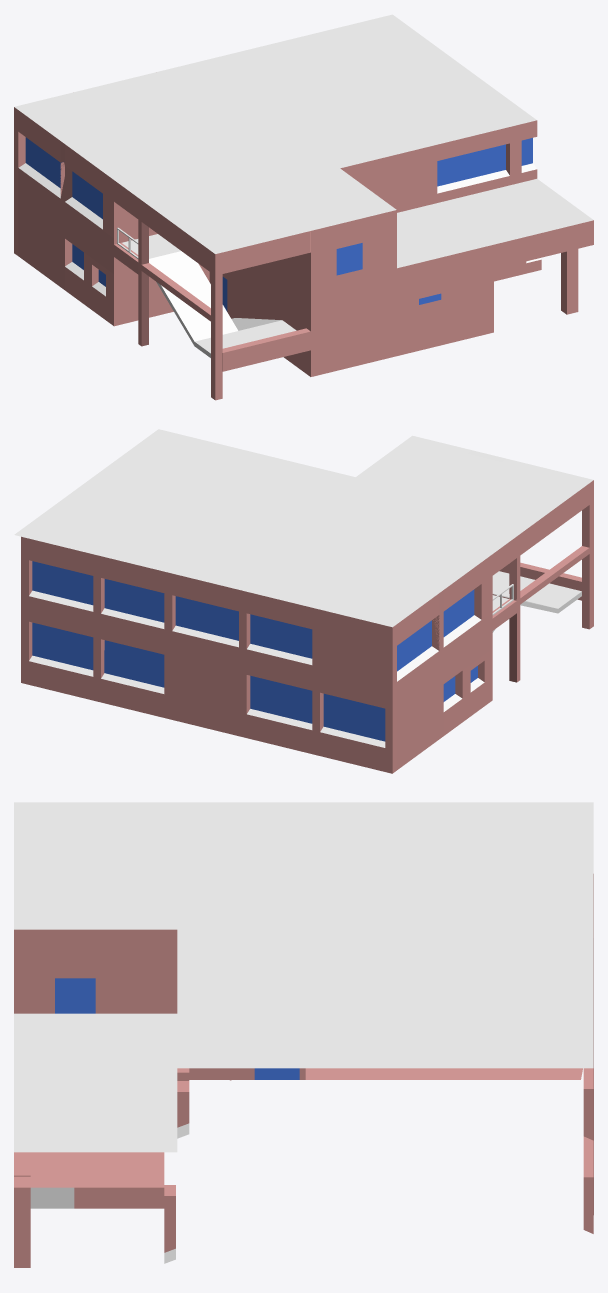
Rendered from denkigizyutu.glb.
The picture shows the model from 3 angles, top to bottom: view 1: azimuth 30°, elevation 25°; view 2: azimuth 150°, elevation 25°; view 3: azimuth 270°, elevation 25°; orthographic projection. The views are drawn at different scales.
Parts seen in each view (by area): view 1: 奥; view 2: 奥; view 3: 奥.
Boxes of the visible parts, x1=… form: 奥: x1=14, y1=14, x2=593, y2=400; 奥: x1=14, y1=429, x2=593, y2=773; 奥: x1=14, y1=802, x2=593, y2=1267.
Size of the model in its own units: 7.44 by 2.76 by 6.86.
Materials: 1 (1 with a texture image).
